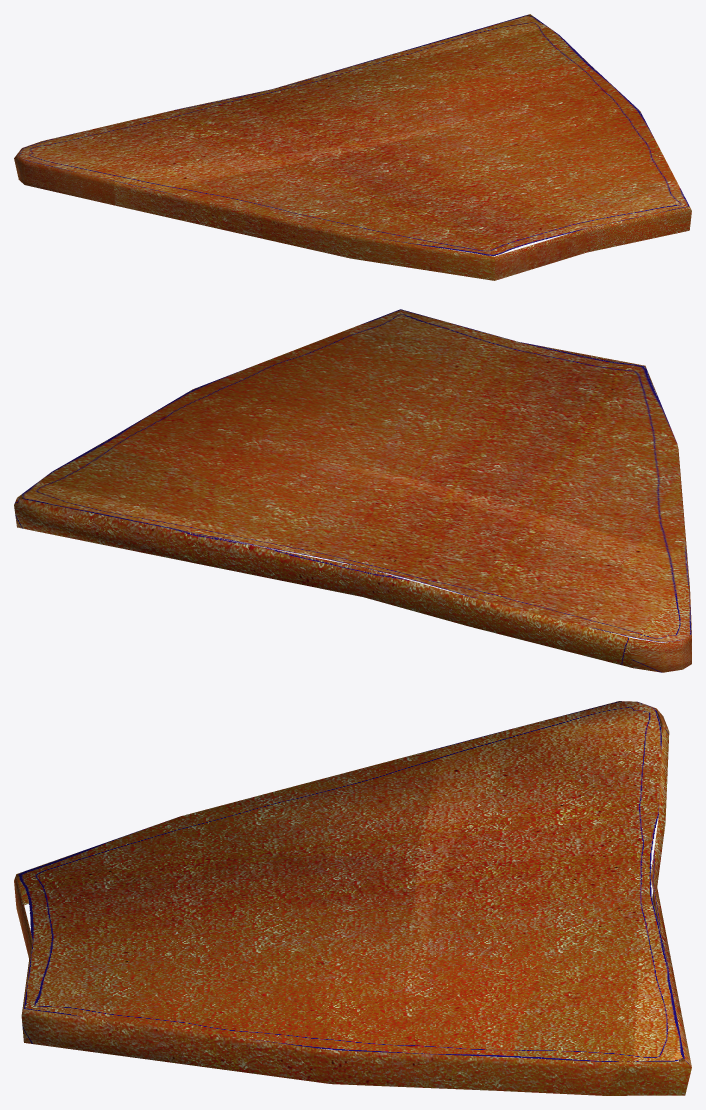
The model's file is brick_04.fbx.
3 renders of one model, top to bottom at view 1: azimuth 30°, elevation 25°; view 2: azimuth 150°, elevation 25°; view 3: azimuth 270°, elevation 25°, orthographic. The views are drawn at different scales.
Visible parts, largest first — view 1: ｂｒｉｃｋ＿０４; view 2: ｂｒｉｃｋ＿０４; view 3: ｂｒｉｃｋ＿０４.
Part boxes in pixels (x1,y1,x2,y2): ｂｒｉｃｋ＿０４: (14, 14, 691, 280); ｂｒｉｃｋ＿０４: (14, 309, 691, 672); ｂｒｉｃｋ＿０４: (14, 701, 691, 1095).
Bounding box in the file's own units: 486 × 21.35 × 384.
Materials: 1 (1 with a texture image).
